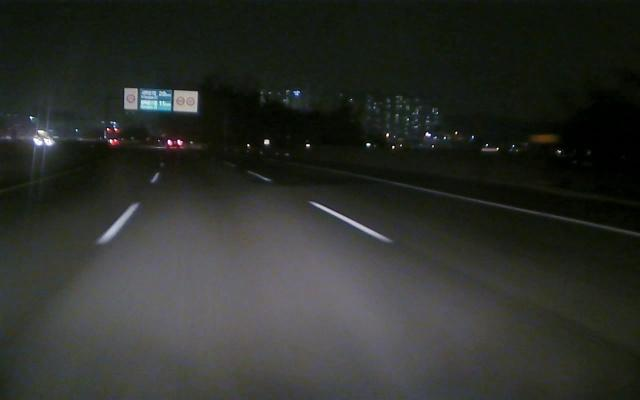lane: (374, 178, 638, 237), (93, 172, 159, 244), (307, 200, 398, 245)
